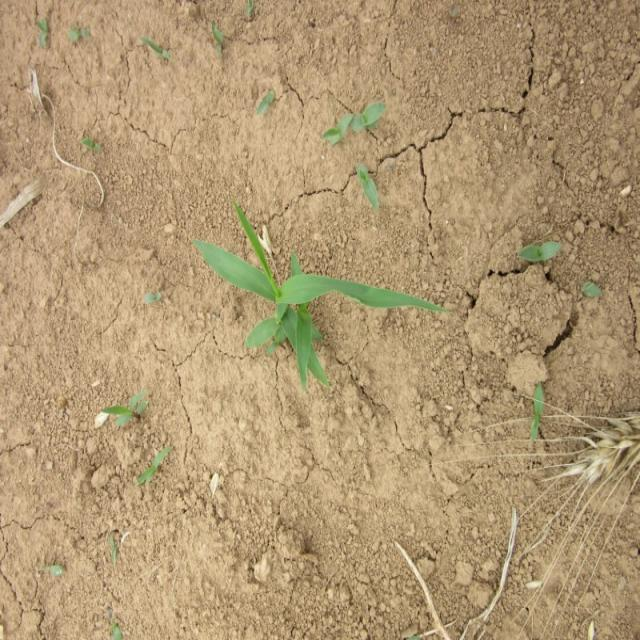bg: (188, 196, 453, 388)
